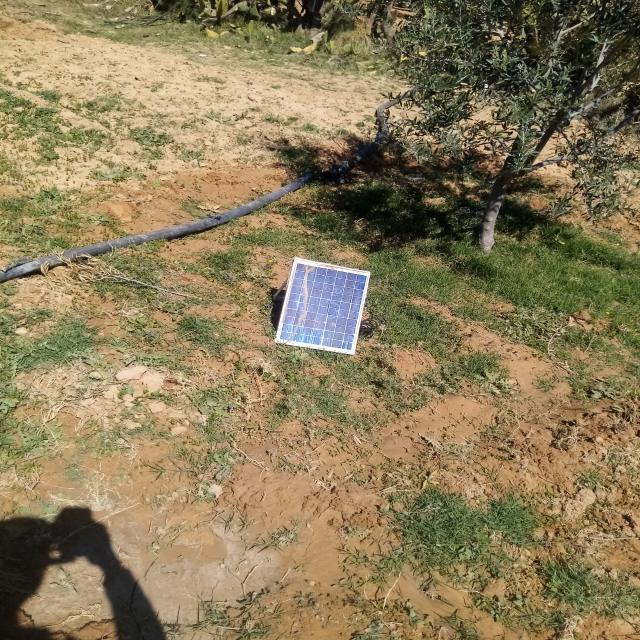faulty: (276, 259, 370, 354)
